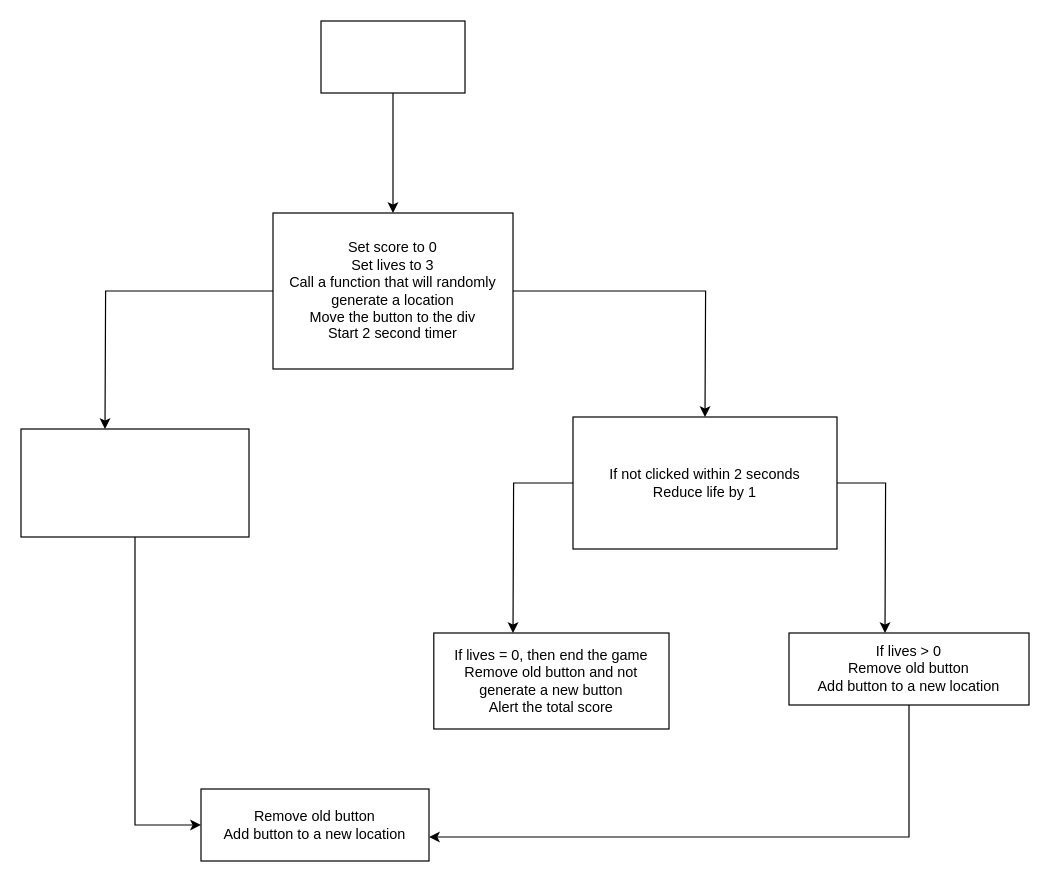
Image size: 1050x882. Some labels were removed from this diagram. The shapes that lost their labels are listed below. From the top down, each one's centre as x and y in pixels, then its label:
At [392,56]: "User clicks start".
At [134,482]: "If clicked within 2 seconds, then: add to score".
